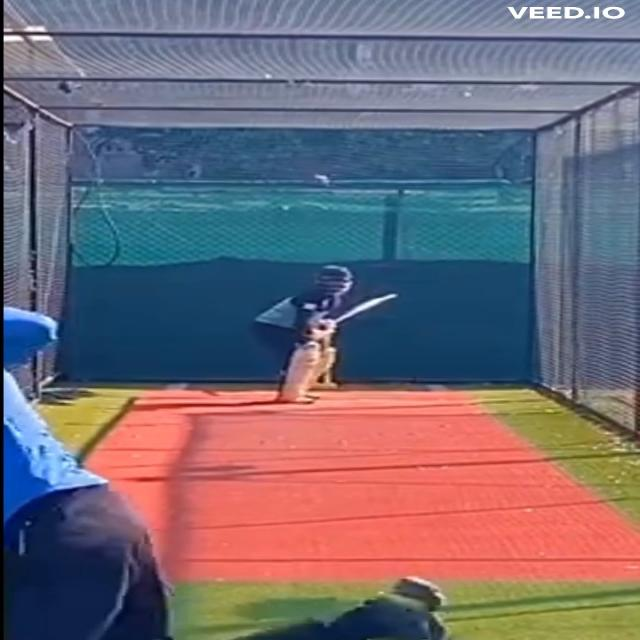ball: (305, 172, 329, 190)
